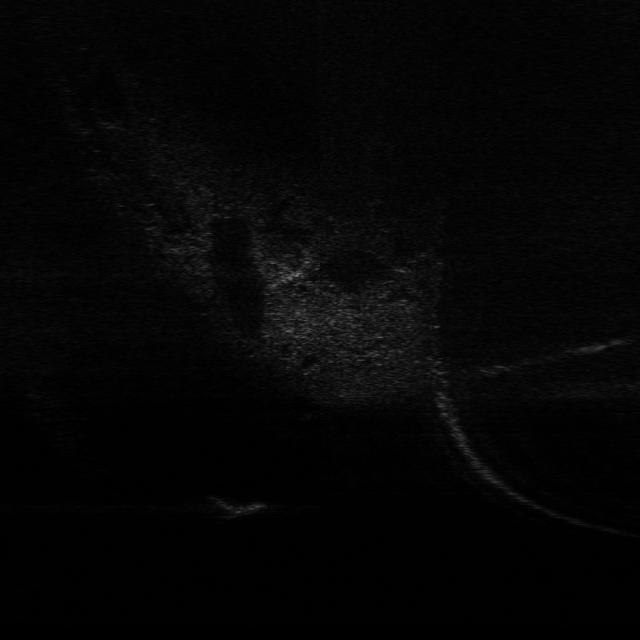cube: (204, 493, 272, 521)
